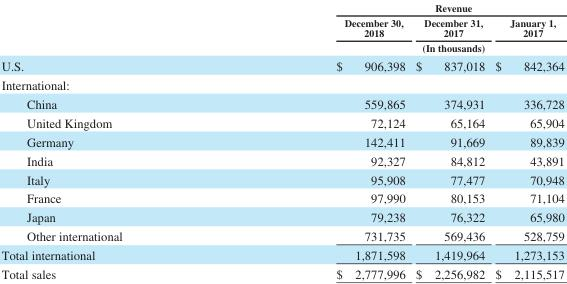table: (0, 1, 563, 280)
table column: (0, 1, 228, 280), (228, 1, 409, 280), (409, 1, 489, 280), (489, 1, 563, 280)
table column header: (0, 1, 563, 55)
table projected row header: (0, 75, 563, 94)
table row: (0, 14, 563, 39), (0, 55, 563, 75), (0, 75, 563, 94), (0, 112, 563, 131), (0, 131, 563, 150), (0, 150, 563, 169), (0, 169, 563, 188), (0, 188, 563, 207), (0, 207, 563, 226), (0, 226, 563, 245), (0, 245, 563, 264), (0, 94, 563, 112), (0, 39, 563, 55), (0, 264, 563, 280), (0, 1, 563, 14)
table spanning cell: (228, 39, 563, 55), (228, 1, 563, 14)
